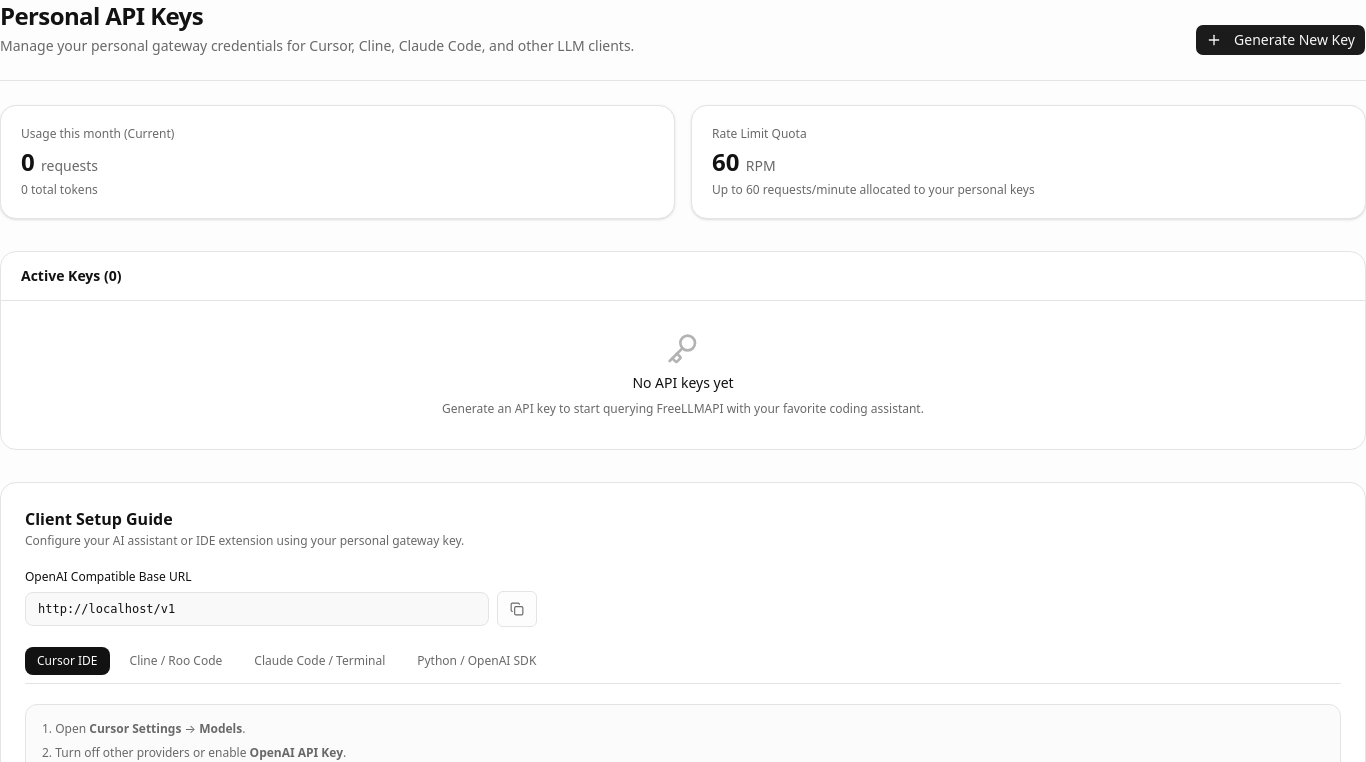
multi-user dashboard regressions › closes the mint modal and reveals the one-time key
Click the button "Generate New Key" at (1281, 40), box [1195,24,1365,56]
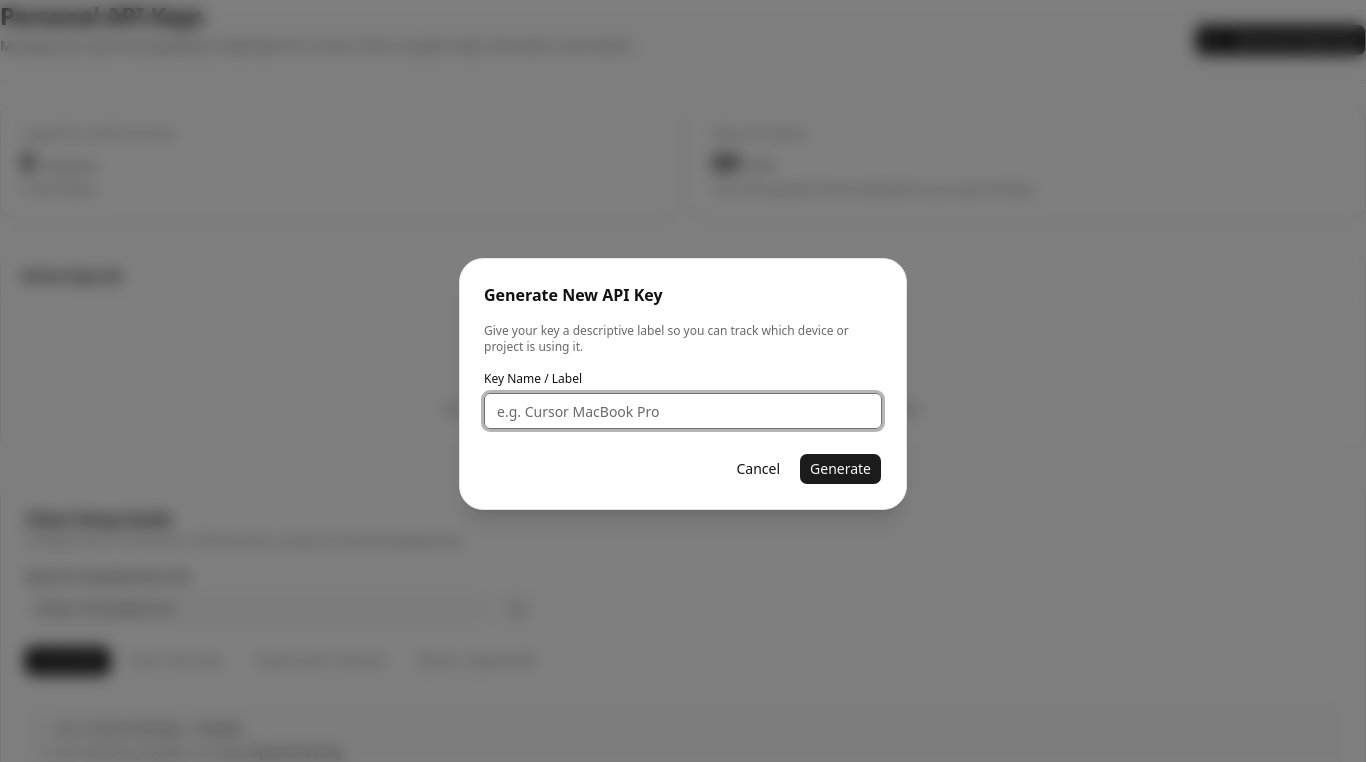
Submit the form, box [484,371,882,485]
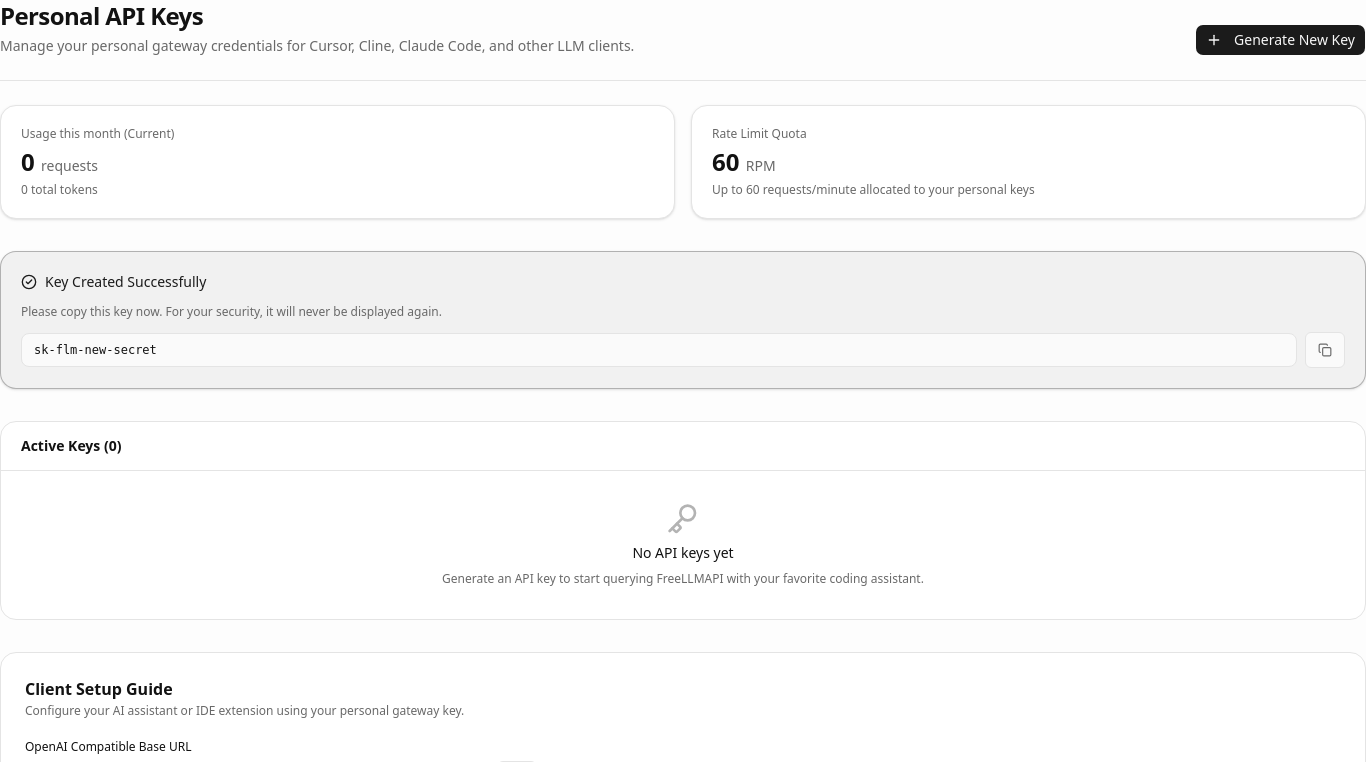
Expected: the text "sk-flm-new-secret" is shown, [21,333,1297,367]
